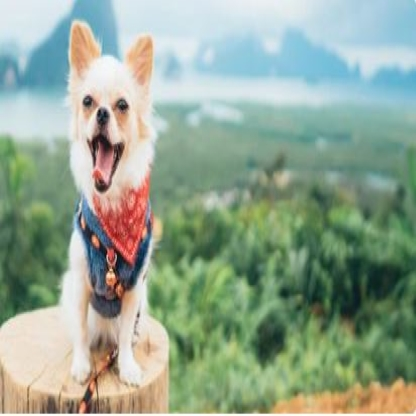chihuahua: (60, 17, 159, 387)
